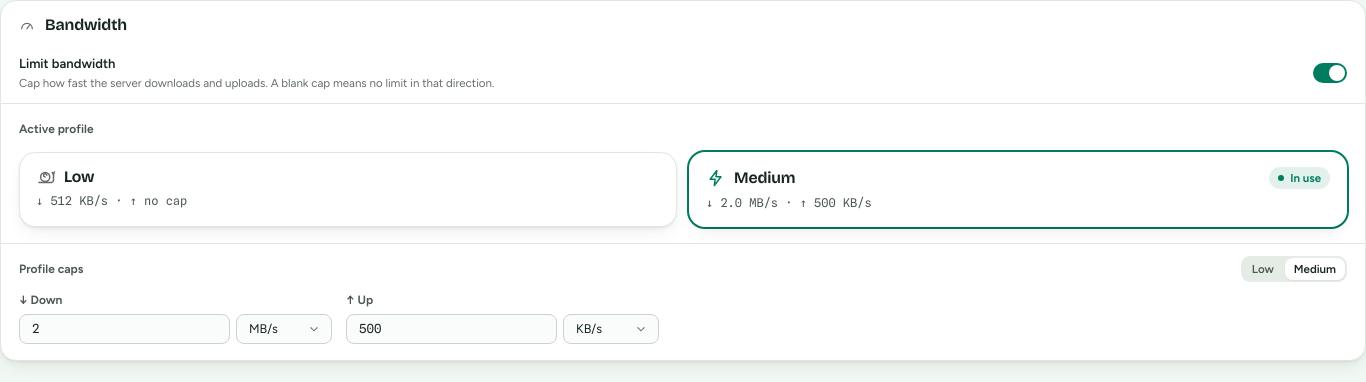
Test case: BandwidthCard › shows caps in editable units, blank for no cap, starting on the profile in use
Check: the field named "Download cap for Medium" holds "2", box [32, 315, 217, 343]
Check: the dropdown named "Unit for Download cap for Medium" shows "MB/s", box [237, 315, 331, 343]
Click the radio button labelled "Low".
click(1263, 269)  # box [1243, 258, 1283, 280]
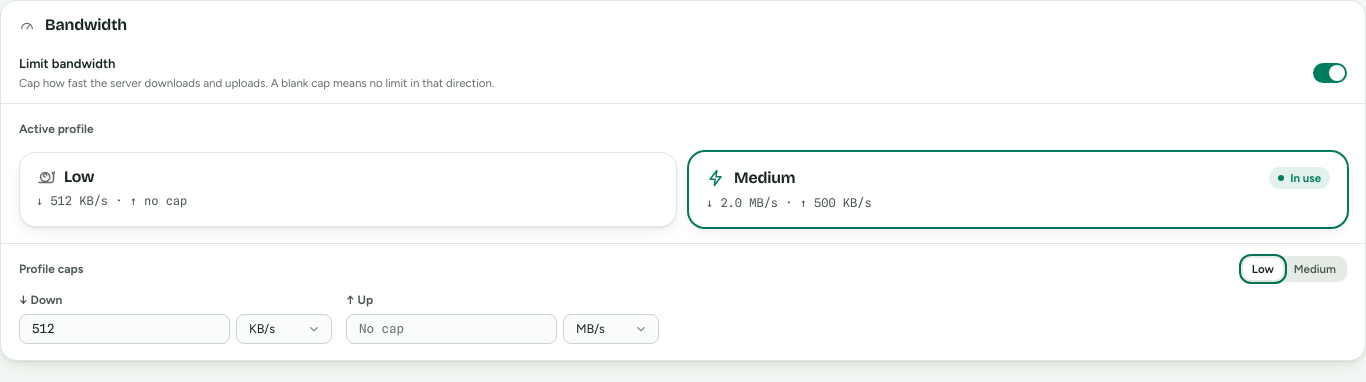
Check: the field named "Download cap for Low" holds "512", box [32, 315, 217, 343]
Check: the dropdown named "Unit for Download cap for Low" shows "KB/s", box [237, 315, 331, 343]
Check: the field named "Upload cap for Low" is empty, box [359, 315, 544, 343]
